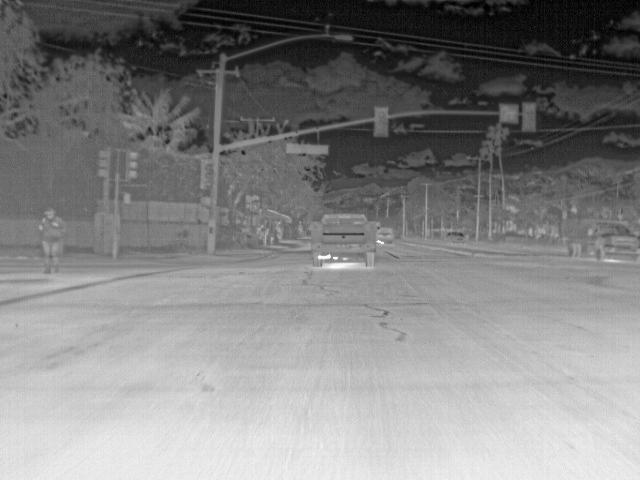car: (313, 213, 377, 269), (567, 222, 640, 264), (376, 225, 397, 245), (443, 228, 467, 244)
person: (38, 205, 69, 275), (257, 224, 266, 241)
